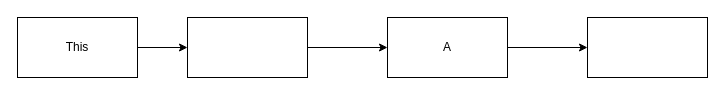
Some shapes in this 725 by 95 pixel diagram are drawn without their labels. Each missing label, with the centre of its shape:
"Is" belongs at point (247, 47).
"Sample" belongs at point (647, 47).
